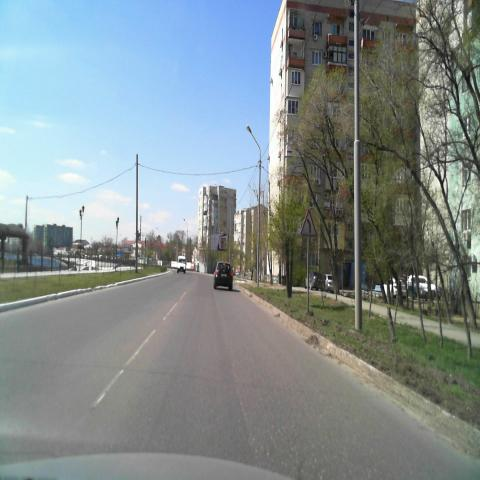1_11_1: (300, 210, 318, 236)
